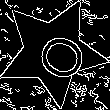O_NW: (20, 21, 85, 83)
